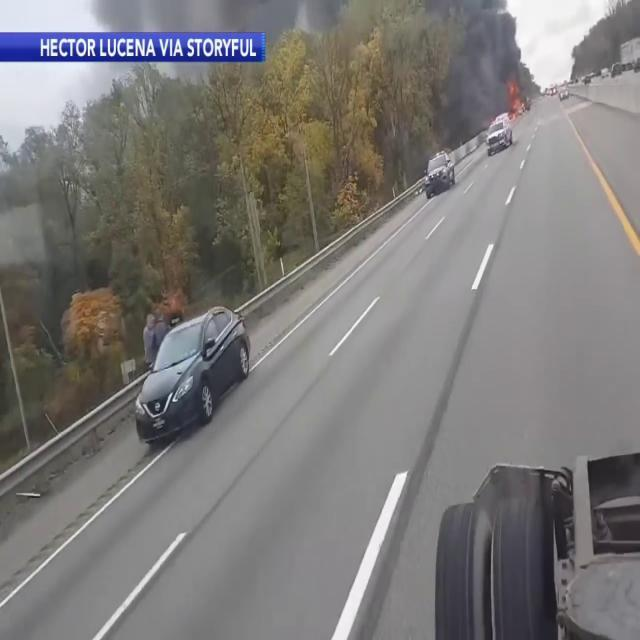Fire: (506, 74, 526, 124)
